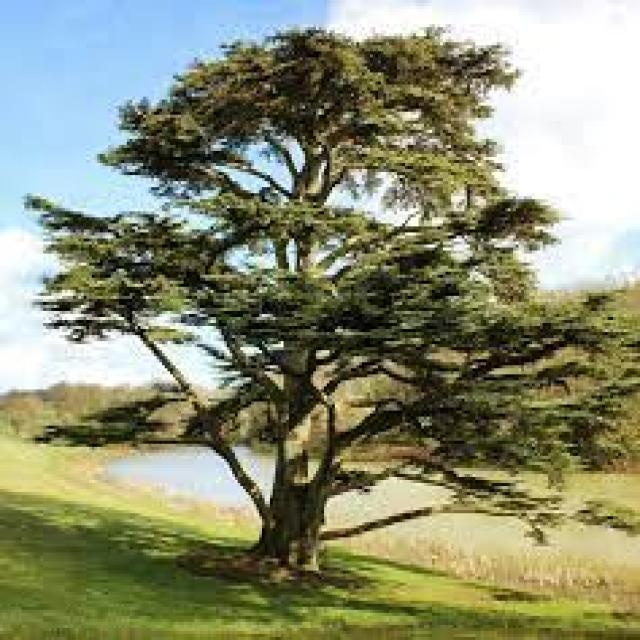cedro: (20, 17, 640, 581)
